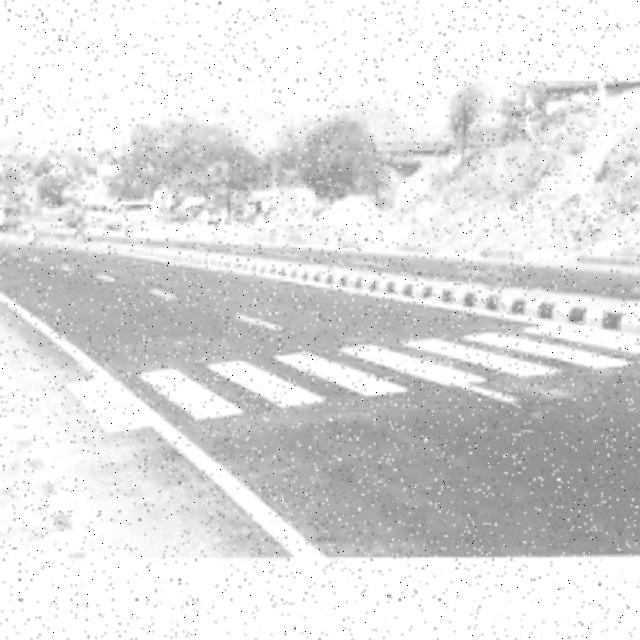Pedestrian crosswalk: (57, 328, 637, 432)
